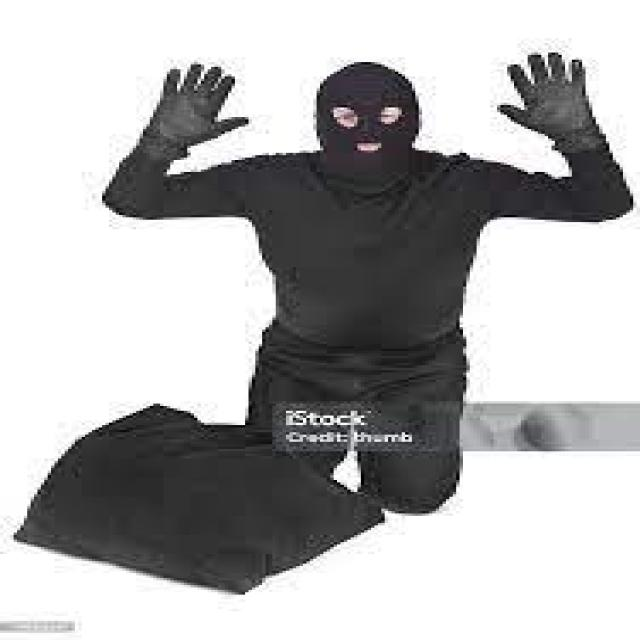6_pasamontana: (302, 58, 434, 204)
